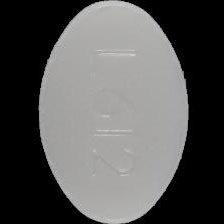50436-3501: (0, 0, 224, 224)
